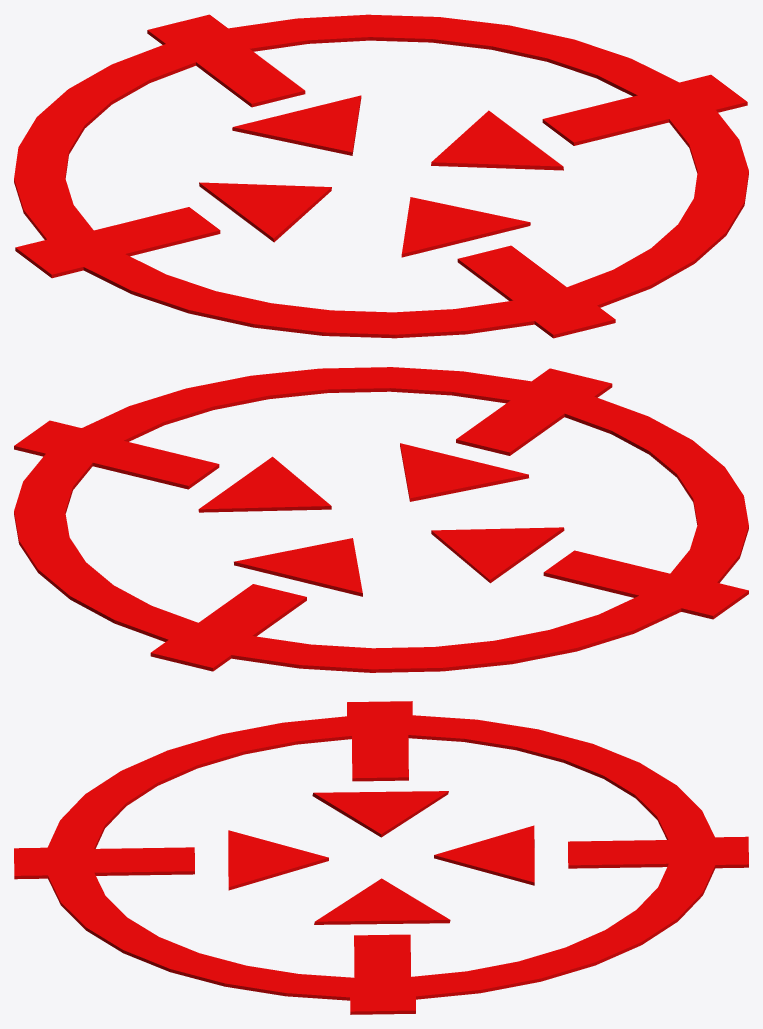
File: indicatorFINAL 2.fbx
3 views of the same model, one above another, from view 1: azimuth 30°, elevation 25°; view 2: azimuth 150°, elevation 25°; view 3: azimuth 270°, elevation 25° (orthographic). The views are drawn at different scales.
Parts seen in each view (by area): view 1: Cylinder; view 2: Cylinder; view 3: Cylinder.
Part boxes in pixels (x1=…): Cylinder: x1=14, y1=14, x2=748, y2=338; Cylinder: x1=14, y1=367, x2=748, y2=672; Cylinder: x1=14, y1=701, x2=748, y2=1014.
Size of the model in its own units: 266 by 5.35 by 266.
